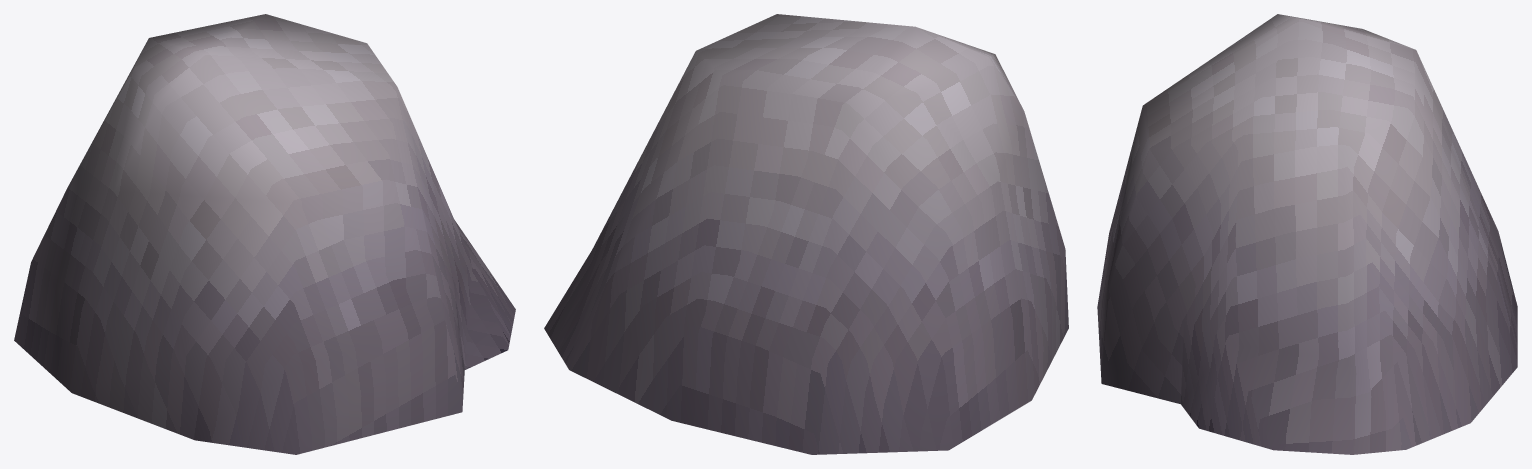
The model's file is Stone.fbx.
The picture shows the model from 3 angles, left to right: view 1: azimuth 30°, elevation 25°; view 2: azimuth 150°, elevation 25°; view 3: azimuth 270°, elevation 25°; orthographic projection. The views are drawn at different scales.
Visible parts, largest first — view 1: It_057_Stone; view 2: It_057_Stone; view 3: It_057_Stone.
Boxes of the visible parts, <box> form: It_057_Stone: <box>14,14,515,454</box>; It_057_Stone: <box>544,14,1068,454</box>; It_057_Stone: <box>1097,14,1517,454</box>.
Size of the model in its own units: 0.6041 by 0.4263 by 0.5479.
